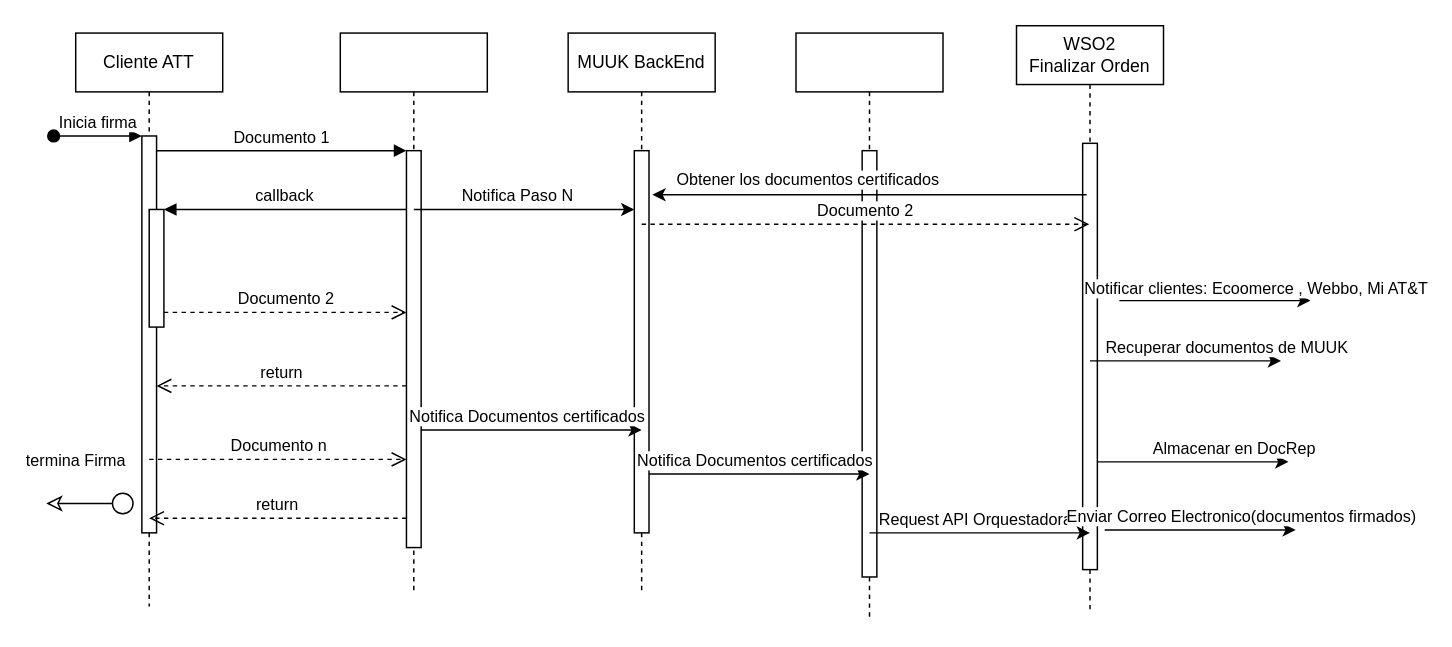
Image size: 1452x647. Some labels were removed from this diagram. The shapes that lost their labels are listed below. From the top down, each one's box as (x1, y1, x2, y2) in pixels, then its label:
(339, 32, 487, 592): Front MUUK
(795, 32, 943, 621): Webhook Muuk(ATT)
